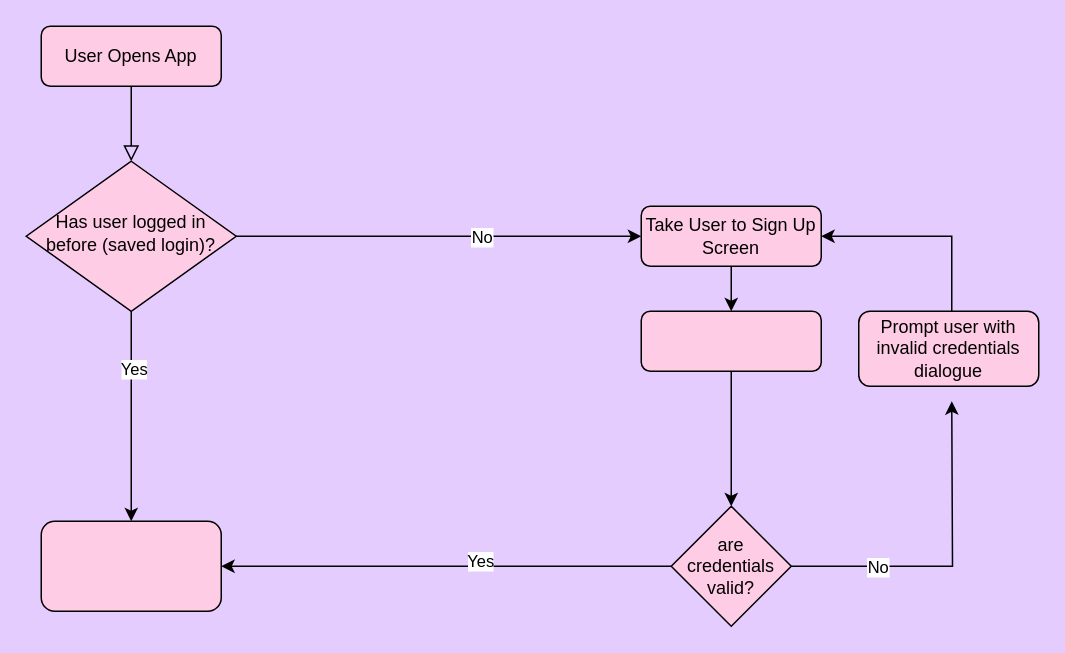
This 1065x653 diagram has some shape labels left out. The shapes that lost their labels are listed below. From the top down, each one's centre as x and y in pixels, then its label:
At pixel 730 340: "Prompt user to create account".
At pixel 130 565: "Take User to HomeScreen".
